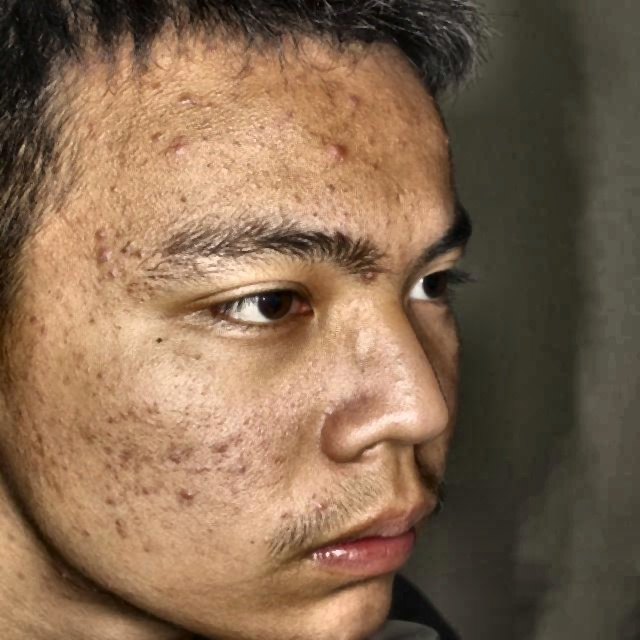pustule: (78, 219, 131, 248), (112, 513, 138, 546), (316, 139, 350, 164), (341, 89, 371, 117), (205, 431, 237, 456), (174, 486, 210, 508), (92, 250, 120, 274), (163, 136, 180, 168), (364, 261, 380, 286)
